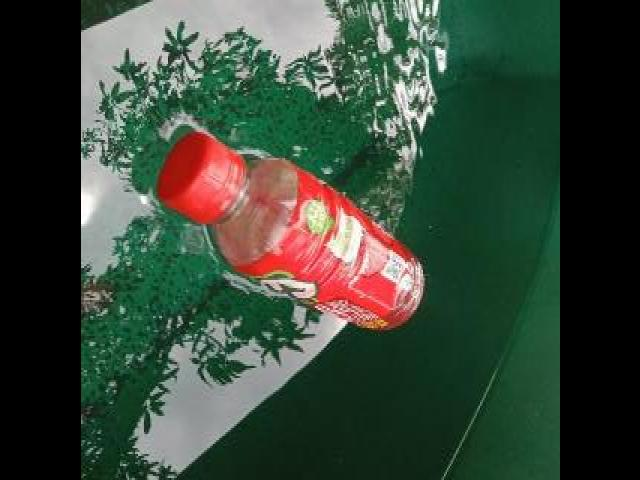Bottle: (153, 125, 430, 340)
